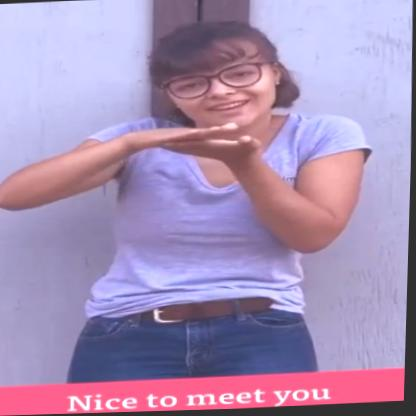NiceToMeetYou: (0, 16, 383, 392)
